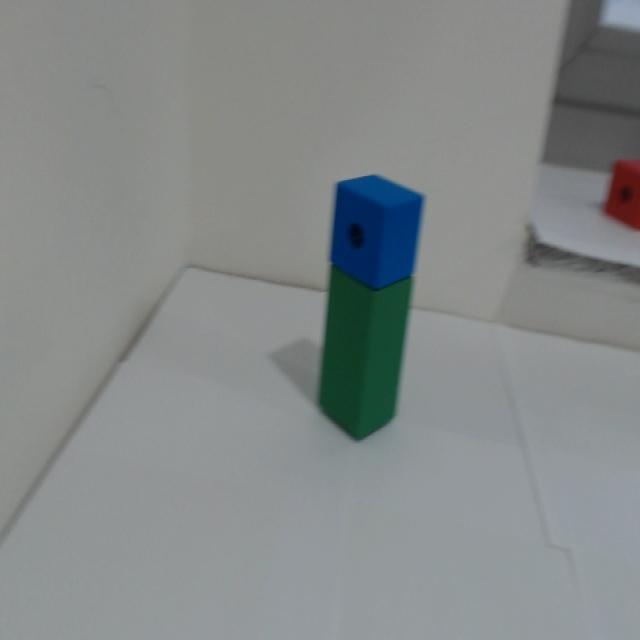cube: (319, 167, 436, 292)
